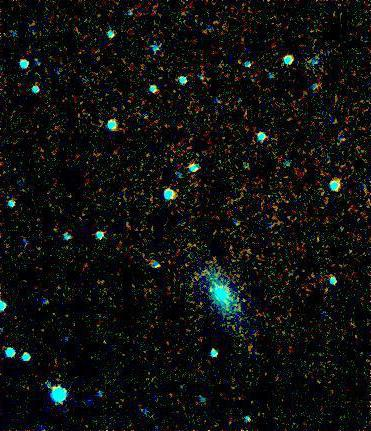star: (196, 277, 226, 307)
